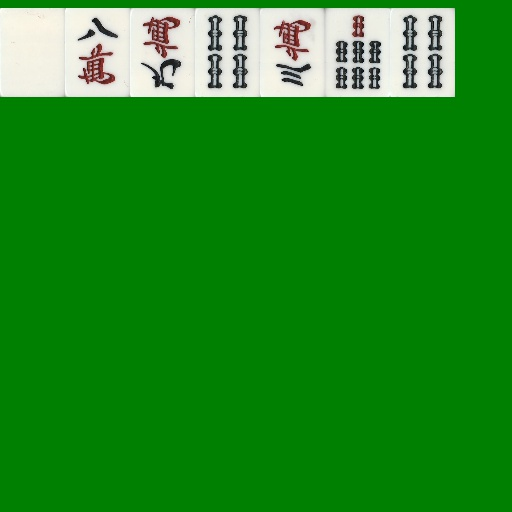3m: (260, 8, 325, 97)
4s: (195, 8, 260, 97), (390, 8, 455, 97)
7s: (325, 8, 390, 97)
8m: (65, 8, 130, 97)
9m: (130, 8, 195, 97)
white: (0, 8, 65, 97)
